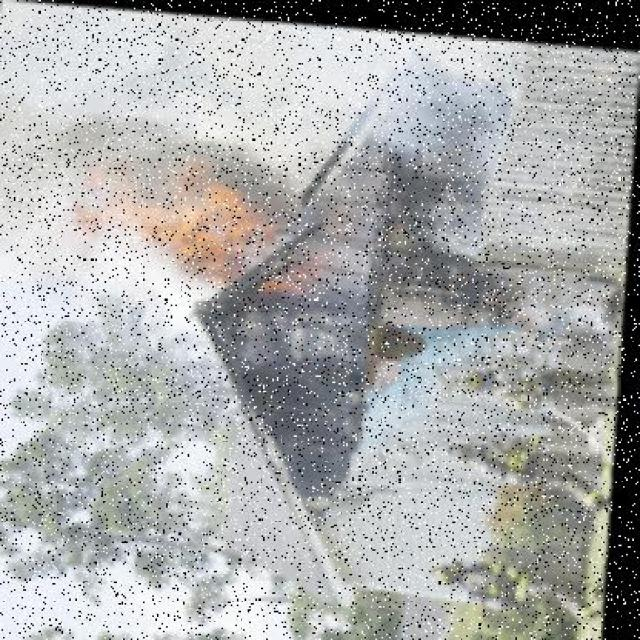fire: (79, 128, 285, 300)
